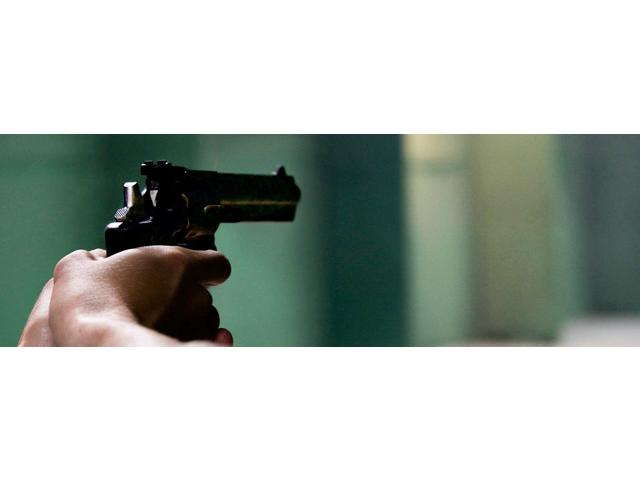pistol: (99, 158, 304, 325)
